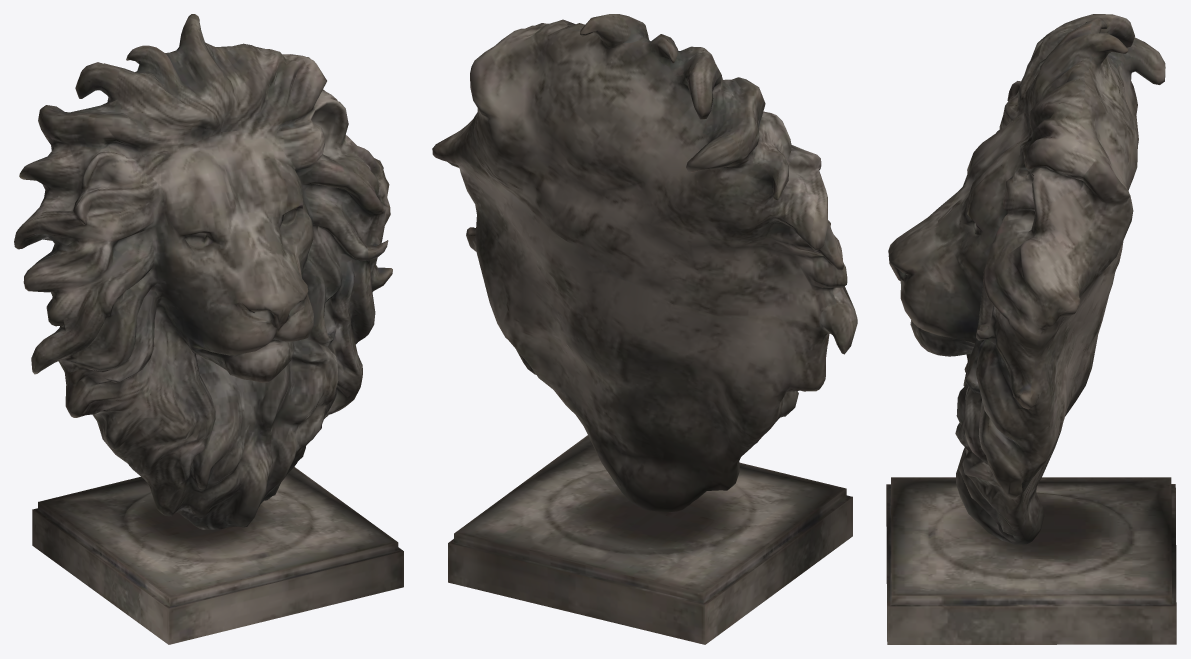
The model's file is lion_head.glb.
The picture shows the model from 3 angles, left to right: view 1: azimuth 30°, elevation 25°; view 2: azimuth 150°, elevation 25°; view 3: azimuth 270°, elevation 25°; orthographic projection. The views are drawn at different scales.
Parts seen in each view (by area): view 1: lion_head; view 2: lion_head; view 3: lion_head.
Part boxes in pixels (x1,y1,x2,y2): lion_head: [14, 14, 403, 644]; lion_head: [432, 14, 857, 644]; lion_head: [886, 14, 1176, 644].
Size of the model in its own units: 0.3203 by 0.4358 by 0.2066.
Materials: 1 (1 with a texture image).
